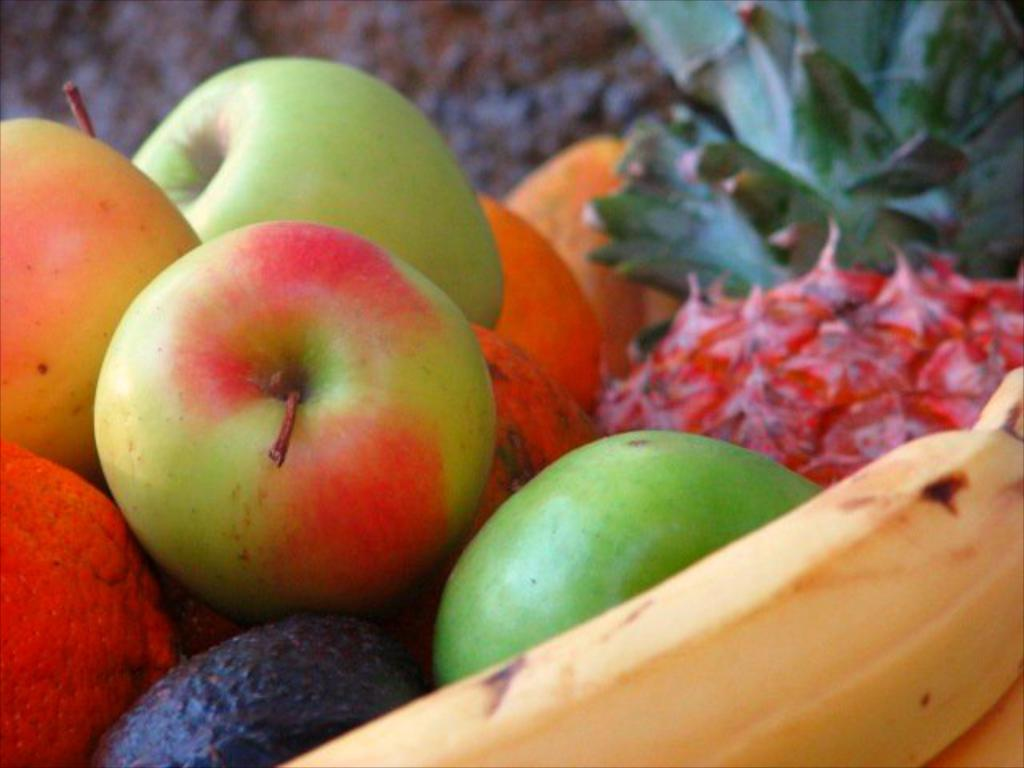Apple: (107, 212, 515, 628), (128, 52, 508, 329), (433, 427, 824, 687), (0, 80, 204, 486)
